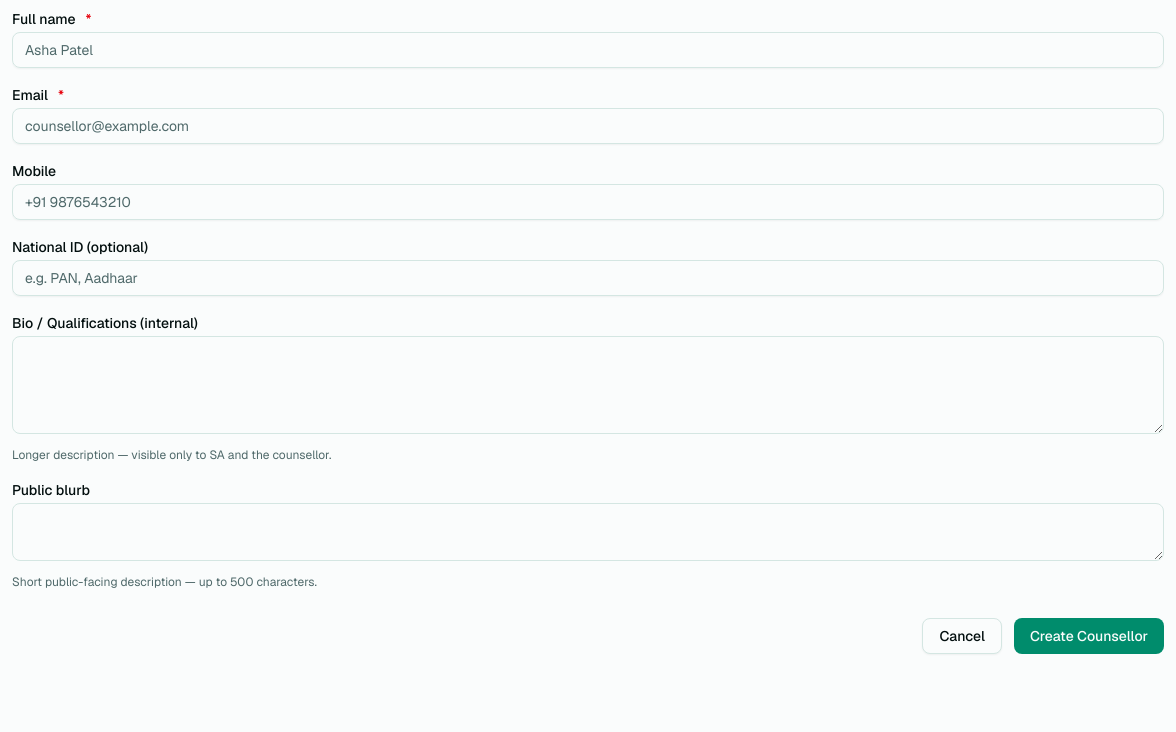
Scenario: CounsellorCreateForm › clears field error when the user edits the field
Submit the form named "Create Counsellor"
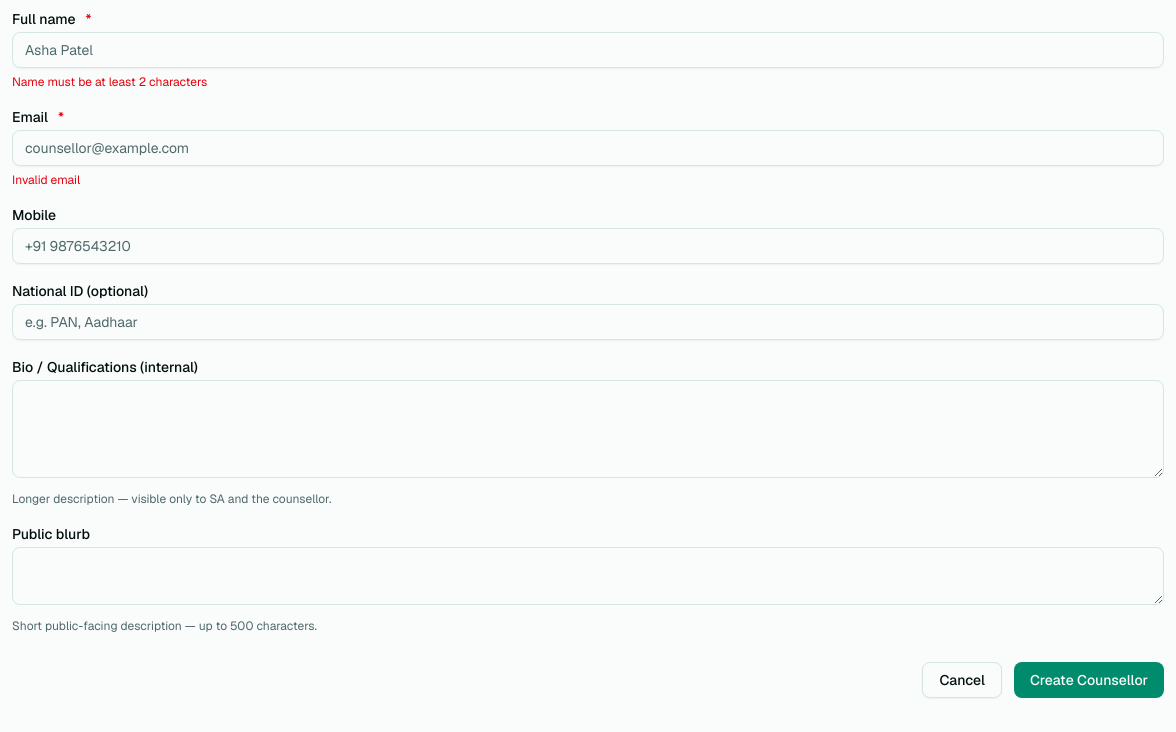
expect the text "Name must be at least 2 characters" is shown: met, box [12,74,207,90]
Type "Asha" into the field with placeholder "Asha Patel".
click(588, 50); type("Asha")  # box [12,32,1164,68]
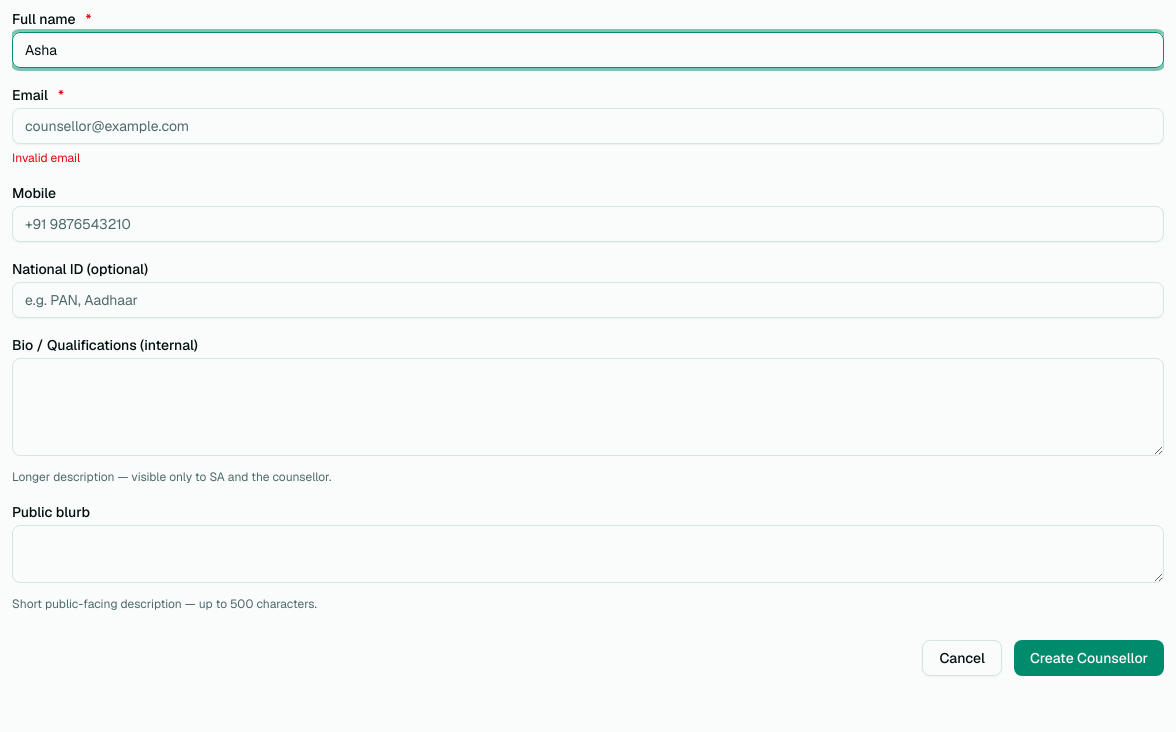
expect the text "Name must be at least 2 characters" is gone: met
